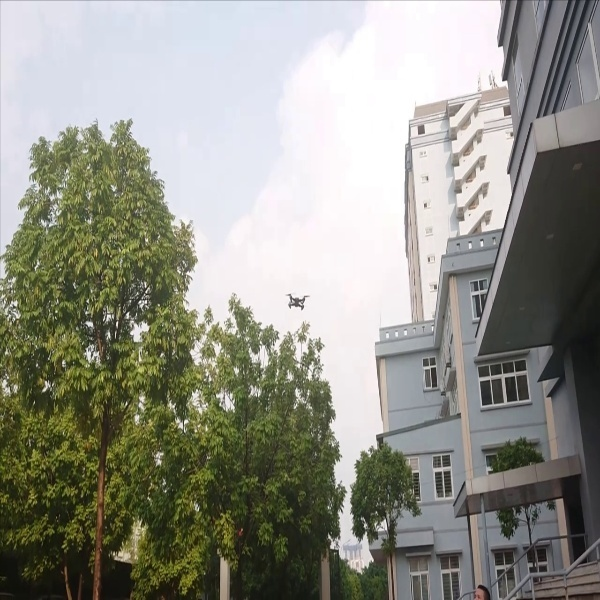drone: (280, 285, 314, 313)
